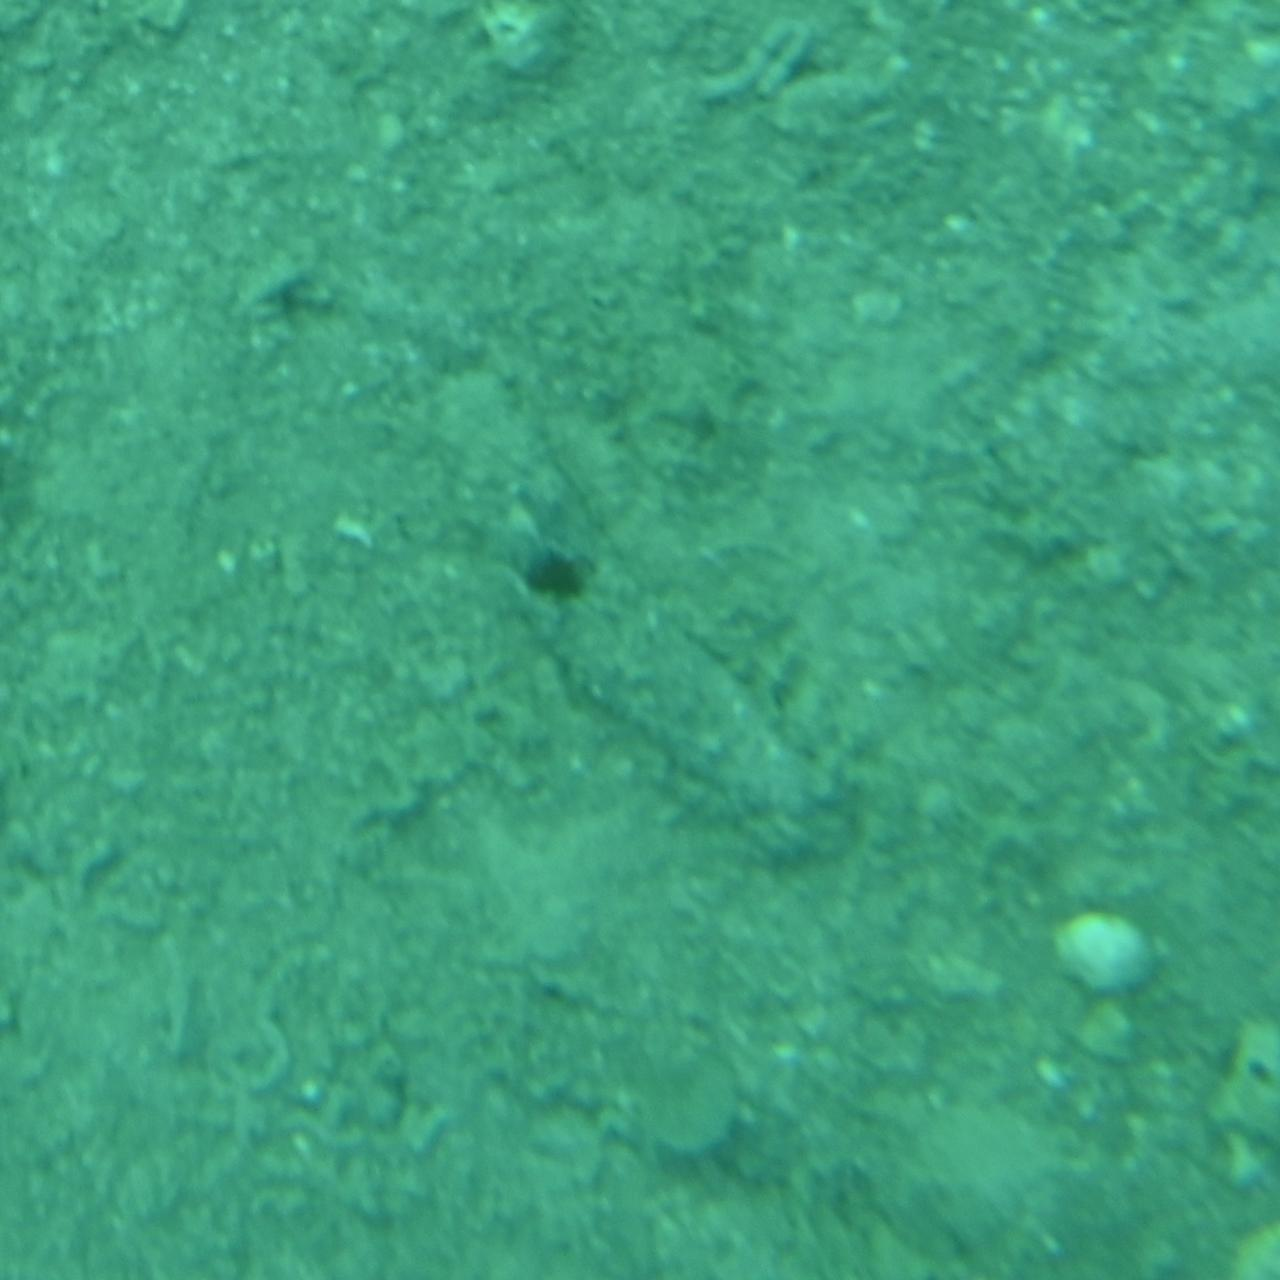Holothuria tubulosa: (423, 384, 857, 896)
